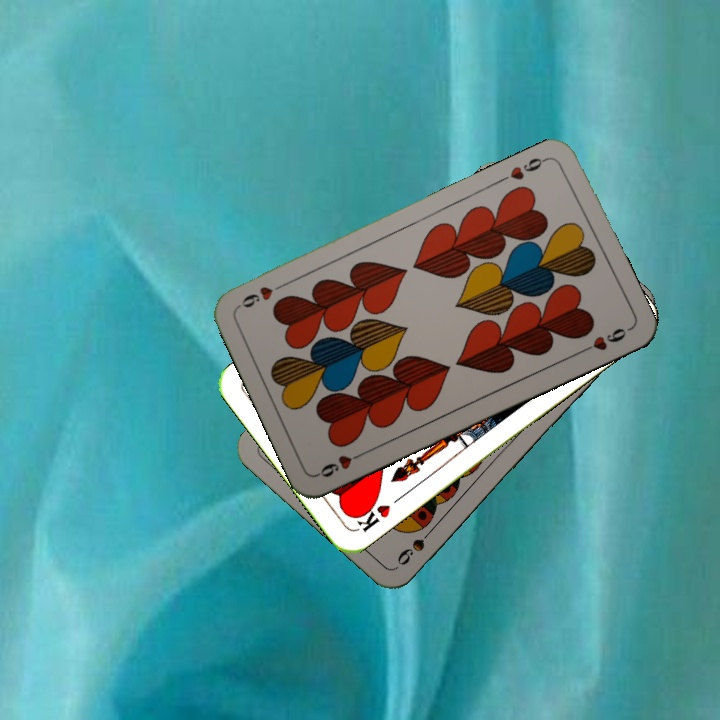H9: (313, 446, 369, 480), (496, 153, 552, 185)
HK: (349, 493, 404, 535)
S9: (393, 521, 439, 569)
